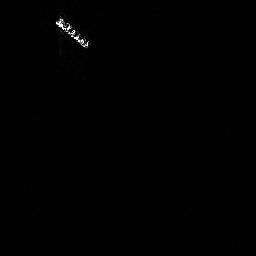ship: (52, 11, 92, 51)
